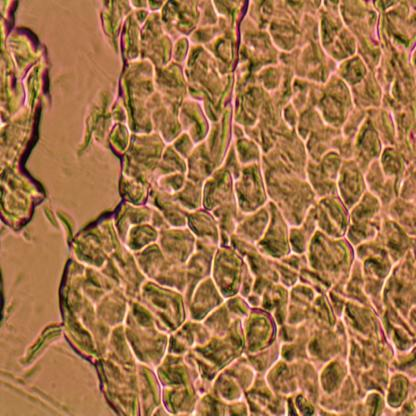Stage II: (89, 0, 416, 416)
